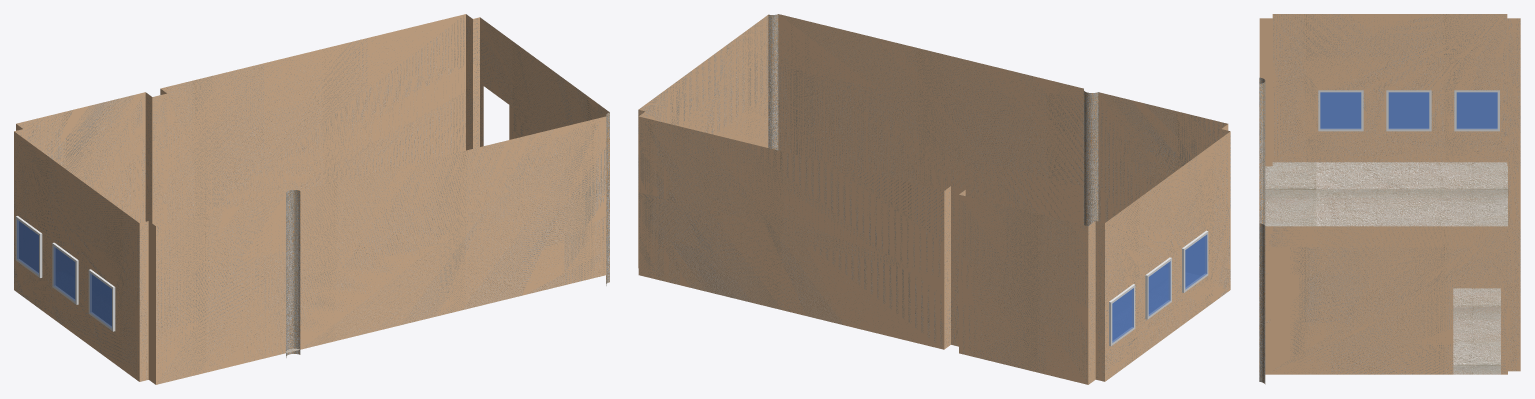
File: AUL005.obj
The picture shows the model from 3 angles, left to right: view 1: azimuth 30°, elevation 25°; view 2: azimuth 150°, elevation 25°; view 3: azimuth 270°, elevation 25°; orthographic projection. The views are drawn at different scales.
Parts seen in each view (by area): view 1: Mesh10 AUL005 Model, Mesh11 AUL005 Model, Mesh4 Group2 AUL005 Model, Mesh7 Group3 AUL005 Model, Mesh1 Group1 AUL005 Model; view 2: Mesh10 AUL005 Model, Mesh11 AUL005 Model, Mesh1 Group1 AUL005 Model, Mesh7 Group3 AUL005 Model, Mesh4 Group2 AUL005 Model; view 3: Mesh10 AUL005 Model, Mesh1 Group1 AUL005 Model, Mesh4 Group2 AUL005 Model, Mesh7 Group3 AUL005 Model, Mesh11 AUL005 Model.
Part boxes in pixels (x1,y1,x2,y2): Mesh10 AUL005 Model: (14,14,609,384); Mesh11 AUL005 Model: (286,190,300,357); Mesh4 Group2 AUL005 Model: (88,269,115,331); Mesh7 Group3 AUL005 Model: (15,216,42,277); Mesh1 Group1 AUL005 Model: (52,242,78,304); Mesh10 AUL005 Model: (638,14,1230,384); Mesh11 AUL005 Model: (1083,89,1098,226); Mesh1 Group1 AUL005 Model: (1145,257,1171,319); Mesh7 Group3 AUL005 Model: (1109,284,1135,346); Mesh4 Group2 AUL005 Model: (1182,230,1208,292); Mesh10 AUL005 Model: (1259,14,1520,384); Mesh1 Group1 AUL005 Model: (1386,90,1431,131); Mesh4 Group2 AUL005 Model: (1318,90,1363,131); Mesh7 Group3 AUL005 Model: (1454,90,1499,131); Mesh11 AUL005 Model: (1259,77,1265,225).
Size of the model in its own units: 11.12 by 3.85 by 5.76.
Materials: 6 (2 with a texture image).
